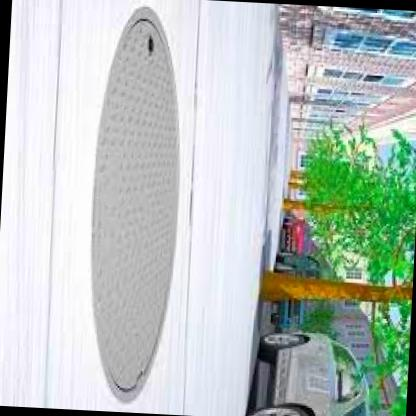manholes: (52, 0, 203, 415)
